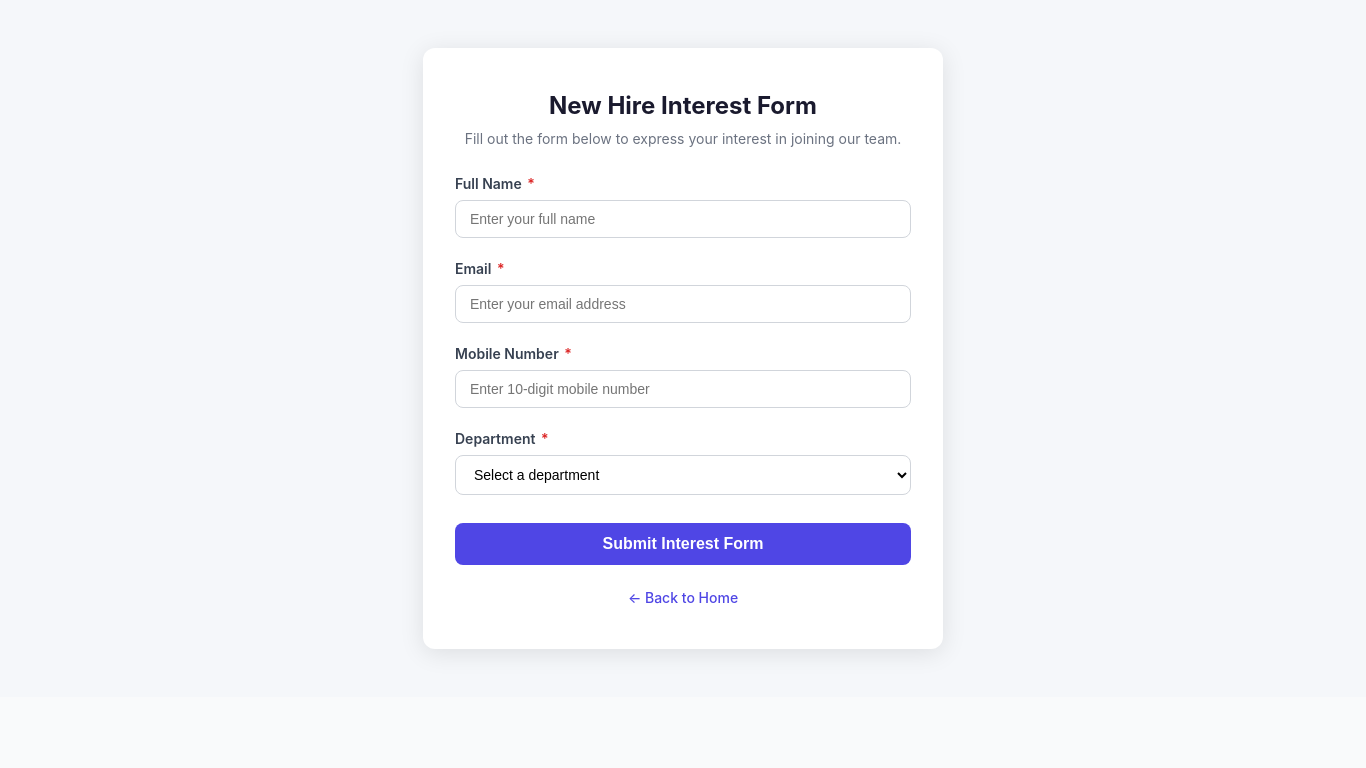
Scenario: InterestForm › validation errors › shows error for name with only one character
Step 1. Type "J" into the field labelled "Full Name *" → (683, 219), box [455,200,911,238]
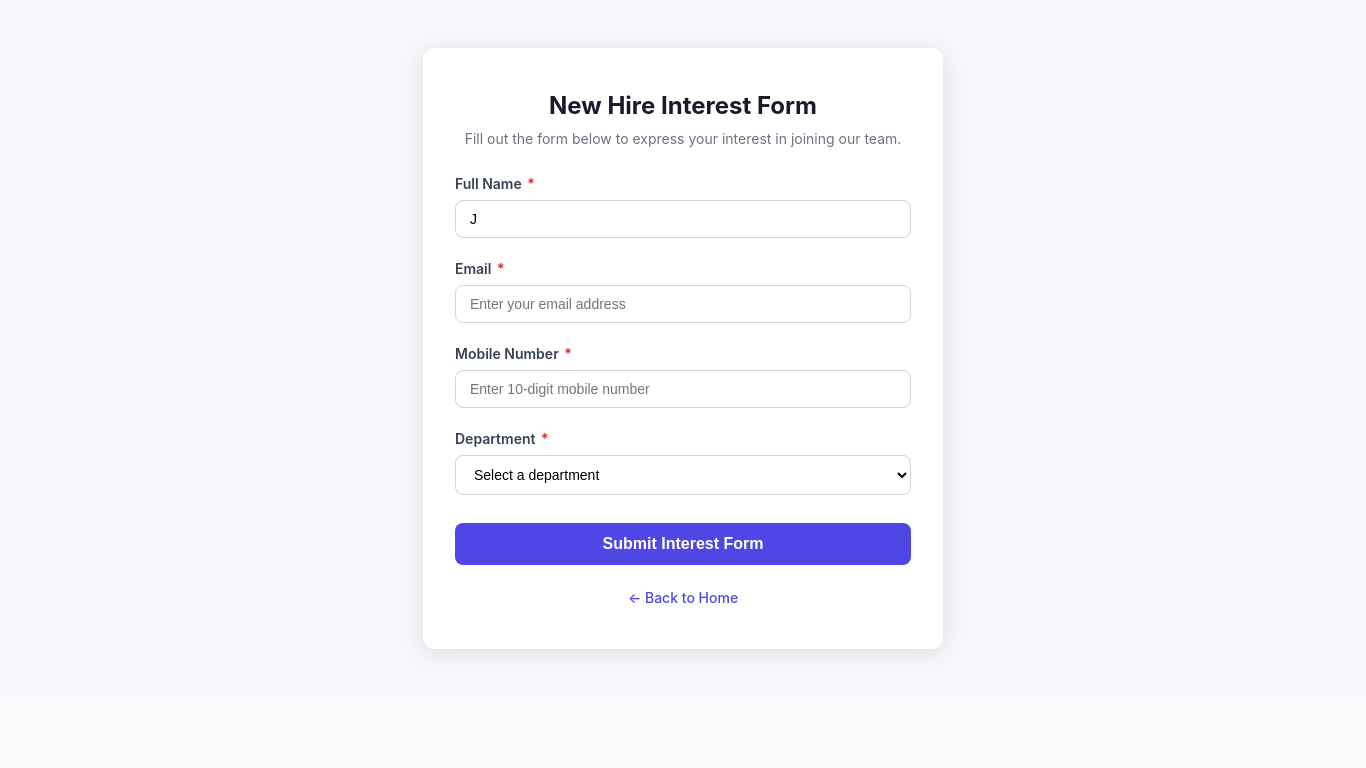
Step 2. Click the button "Submit Interest Form" → (683, 544), box [455,523,911,565]
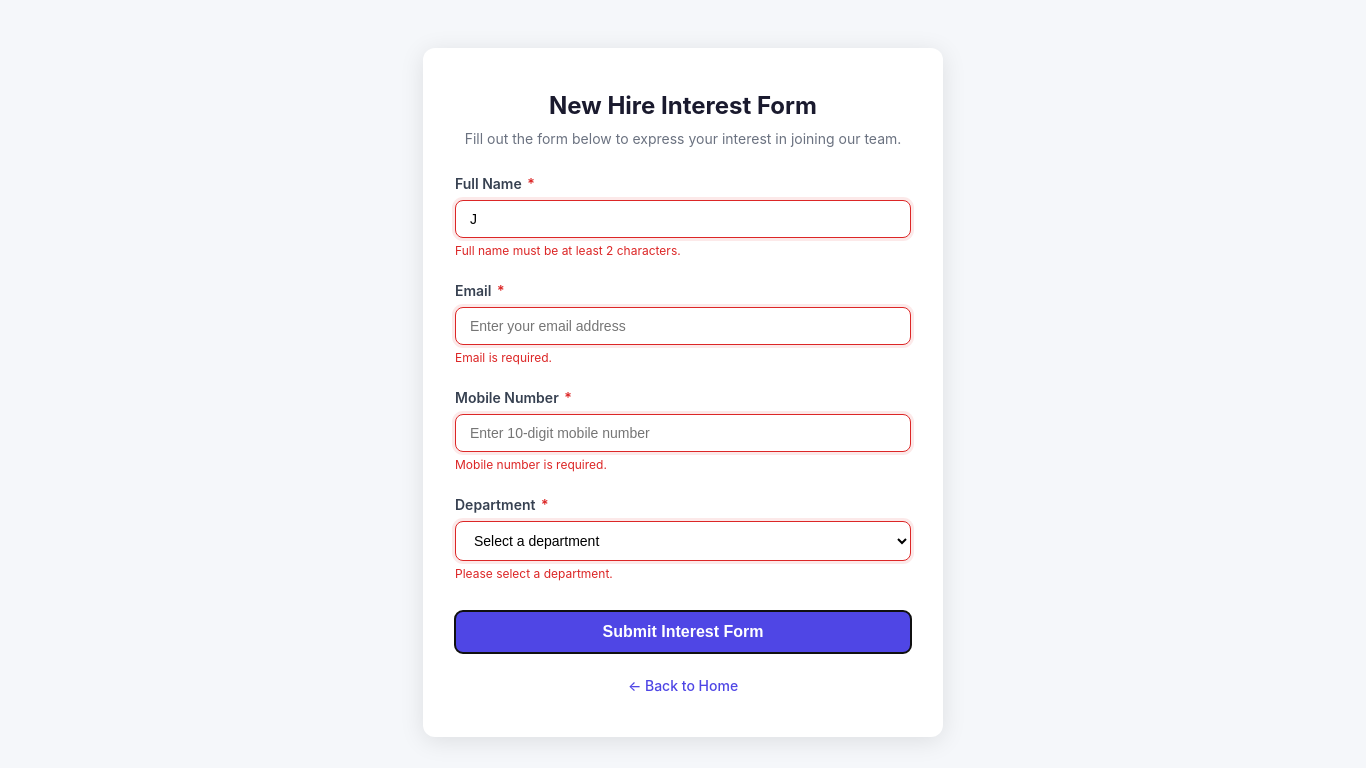
Check: the text "Full name must be at least 2 characters." is shown, box [455,243,681,258]
